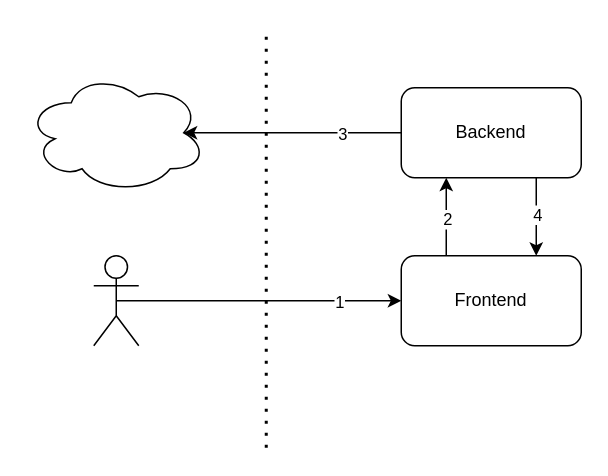
The diagram is 608 pixels wide and 476 high, and some of its shapes have lost their labels. Here are the shapes that lost their labels. From the top down, the centre of each, then its label:
the point at 115,132: external api
the point at 115,300: Browser
